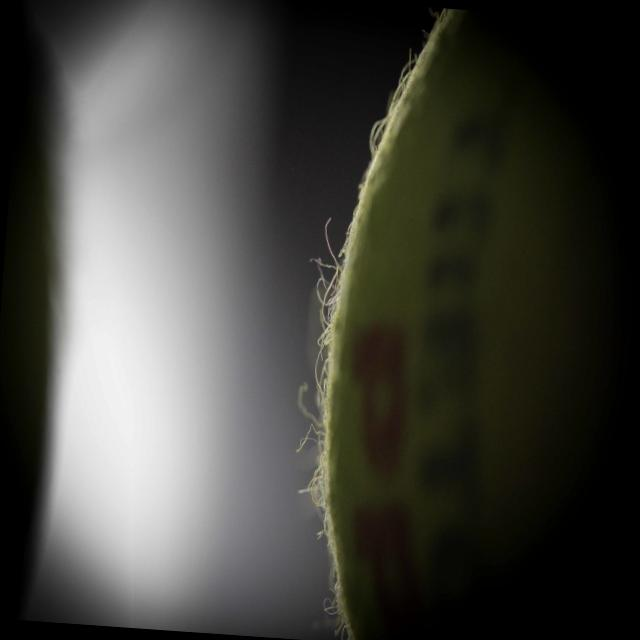Tennis Ball: (298, 1, 640, 640)
